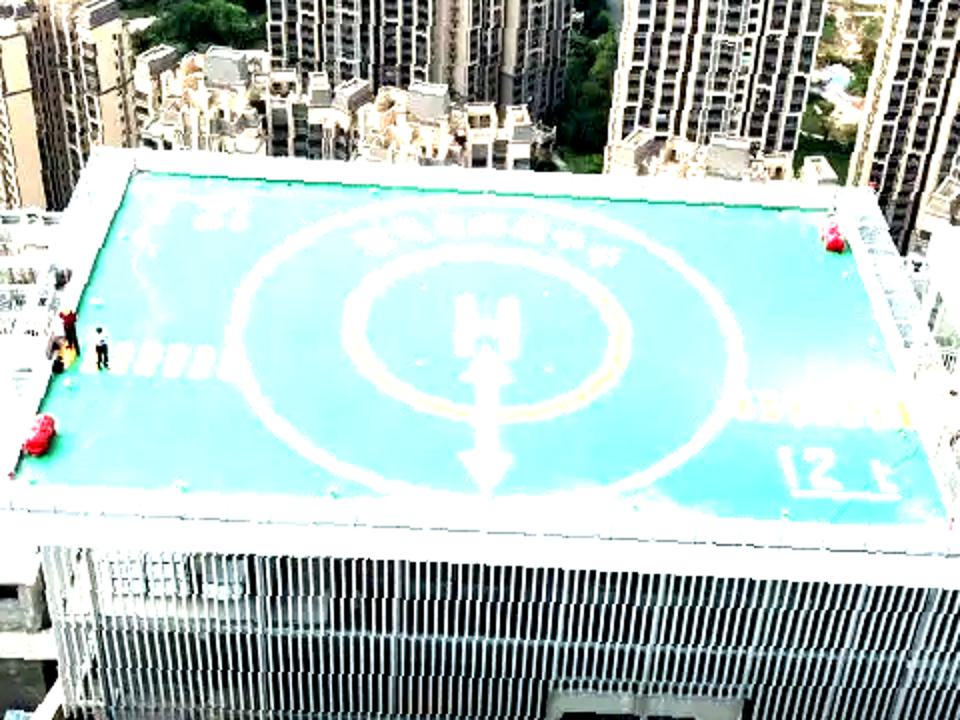Apron: (322, 223, 638, 441)
